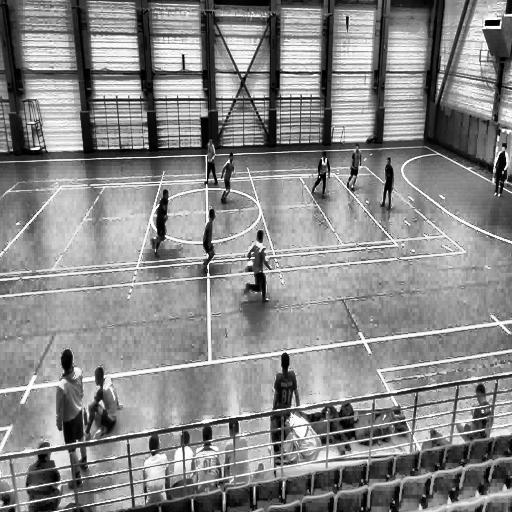ball: (247, 259, 255, 273)
player: (56, 349, 88, 486), (85, 366, 120, 443), (272, 351, 300, 429), (245, 229, 271, 306), (152, 190, 170, 260), (310, 150, 330, 198), (494, 143, 510, 198), (202, 207, 215, 274), (380, 156, 394, 211), (204, 135, 219, 186), (221, 150, 235, 204), (347, 143, 362, 191)
